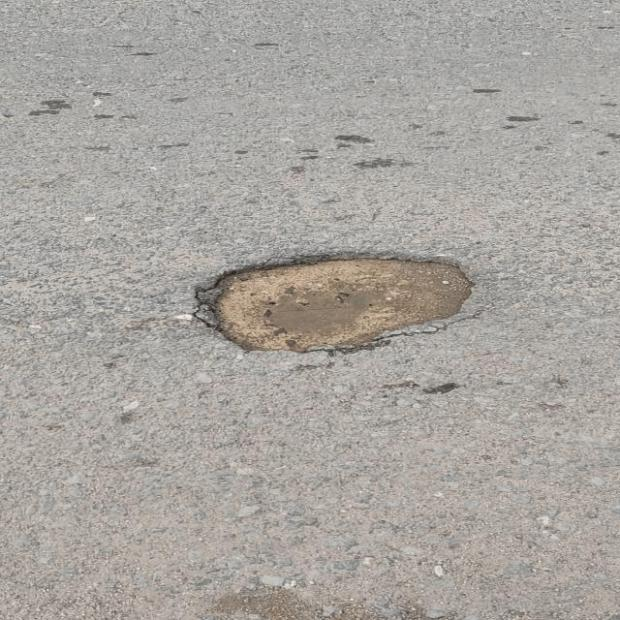lubang: (198, 258, 473, 352)
